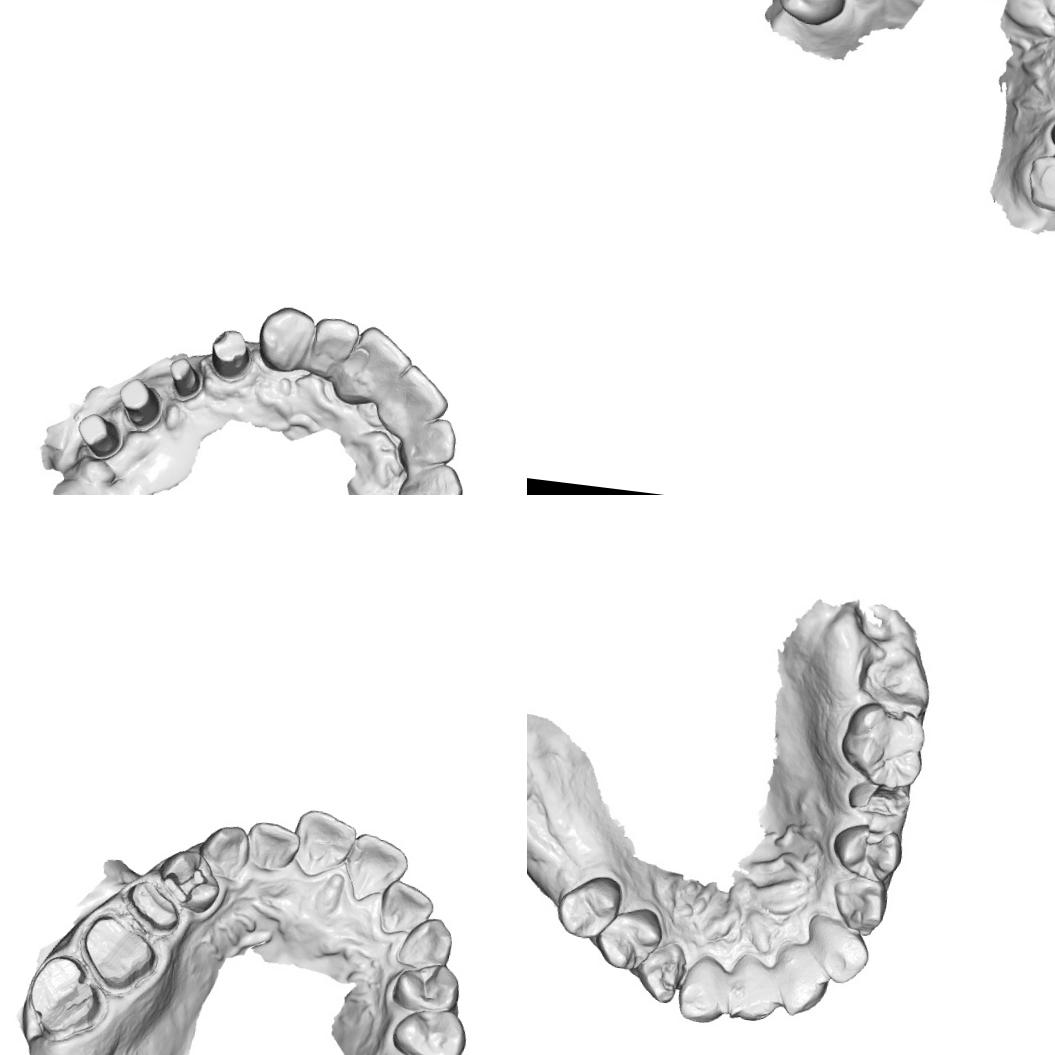abutment: (204, 326, 257, 384), (114, 375, 167, 433), (73, 410, 125, 462), (162, 354, 206, 404)
canine: (254, 302, 318, 377), (632, 937, 691, 1010), (826, 874, 890, 938), (394, 914, 455, 973), (195, 820, 252, 882), (394, 458, 467, 495)
crown: (21, 950, 114, 1048), (72, 907, 164, 999), (118, 876, 185, 939)
incisor: (797, 910, 874, 991), (343, 321, 418, 404), (720, 945, 786, 1027), (288, 807, 360, 881), (341, 830, 412, 905), (764, 946, 832, 1023), (381, 361, 452, 434), (674, 949, 734, 1028), (374, 876, 437, 941), (399, 413, 460, 473), (306, 312, 360, 376), (243, 819, 302, 874)
inlay: (159, 862, 210, 909)
molar: (836, 700, 932, 792), (767, 0, 851, 29), (1022, 149, 1055, 219)
premolar: (593, 902, 667, 977), (552, 870, 626, 944), (829, 820, 907, 885), (389, 1002, 470, 1055), (389, 958, 463, 1016)
